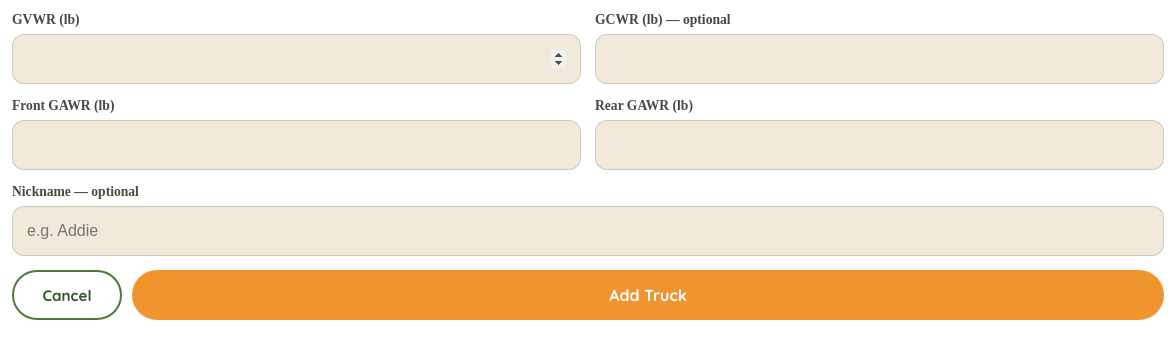
Test: TruckProfileForm › rejects a negative rating before submit (Story 15)
Type "10000" into the number field labelled "GVWR (lb)" at coordinates (296, 59), box [12, 34, 581, 84]
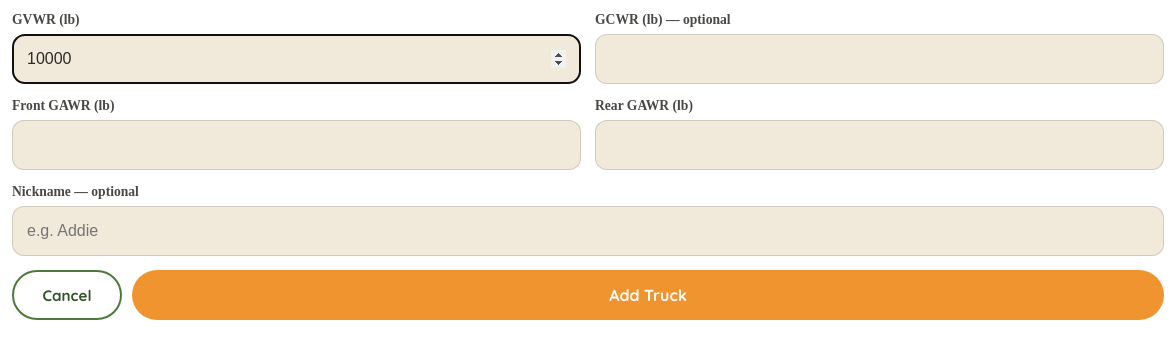
Type "-500" into the number field labelled "Front GAWR (lb)" at coordinates (296, 145), box [12, 120, 581, 170]
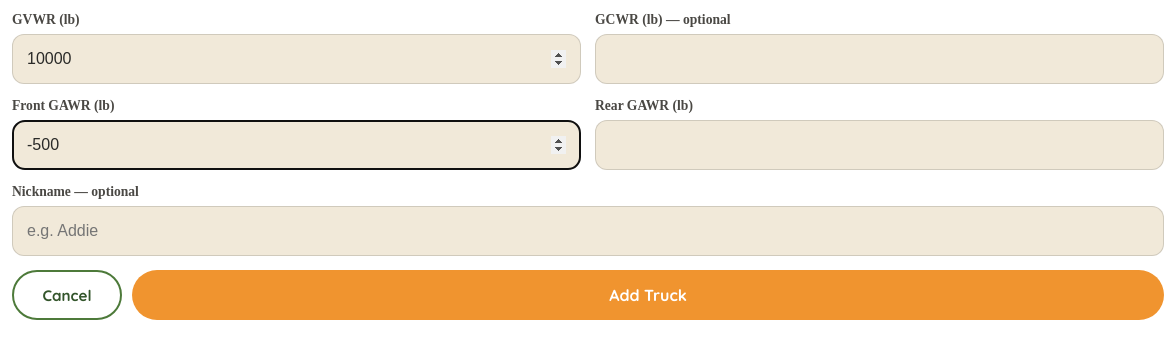
Type "6500" into the number field labelled "Rear GAWR (lb)" at coordinates (880, 145), box [595, 120, 1164, 170]
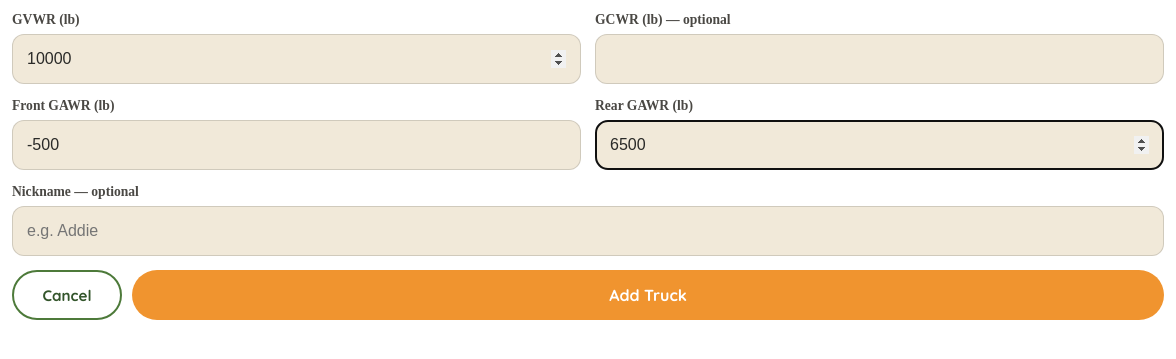
Click the button "Add Truck" at coordinates (648, 295), box [132, 270, 1164, 320]
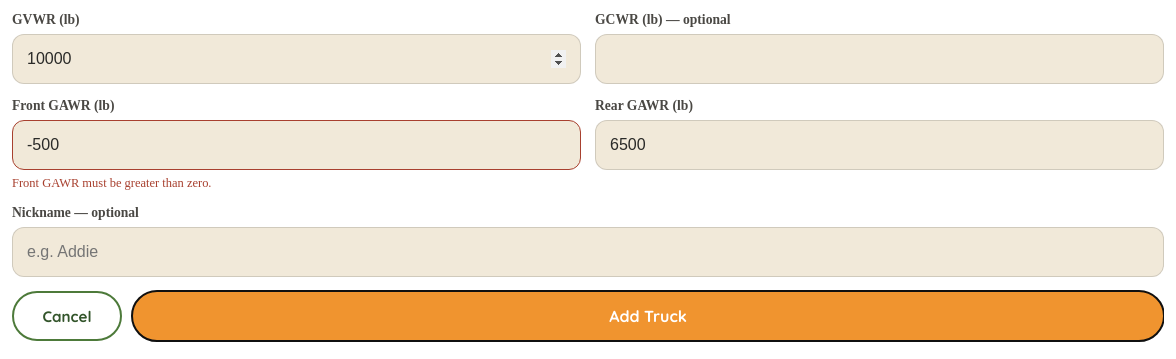
expect the text "Front GAWR must be greater than zero." is shown: met, box [12, 176, 212, 190]
